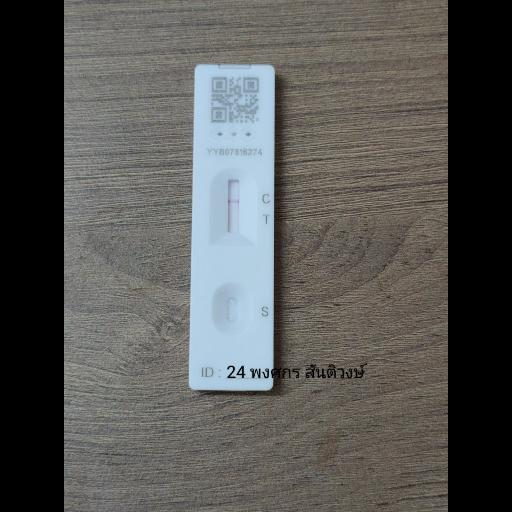Neg: (194, 64, 274, 390)
